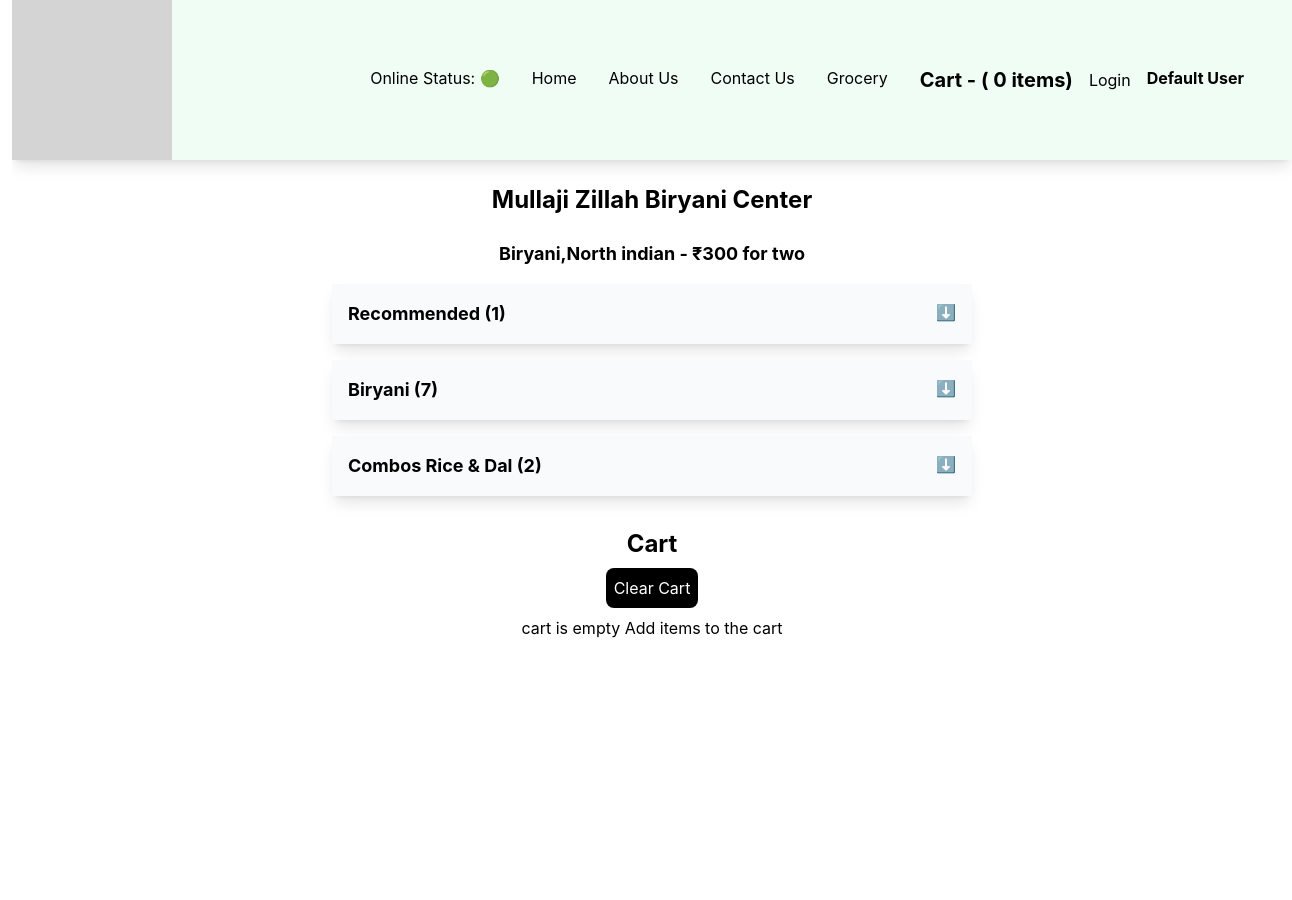
Scenario: should Load Restaurant Menu Component
Click the text "Biryani (7)" at [393, 390], box [348,376,438,404]
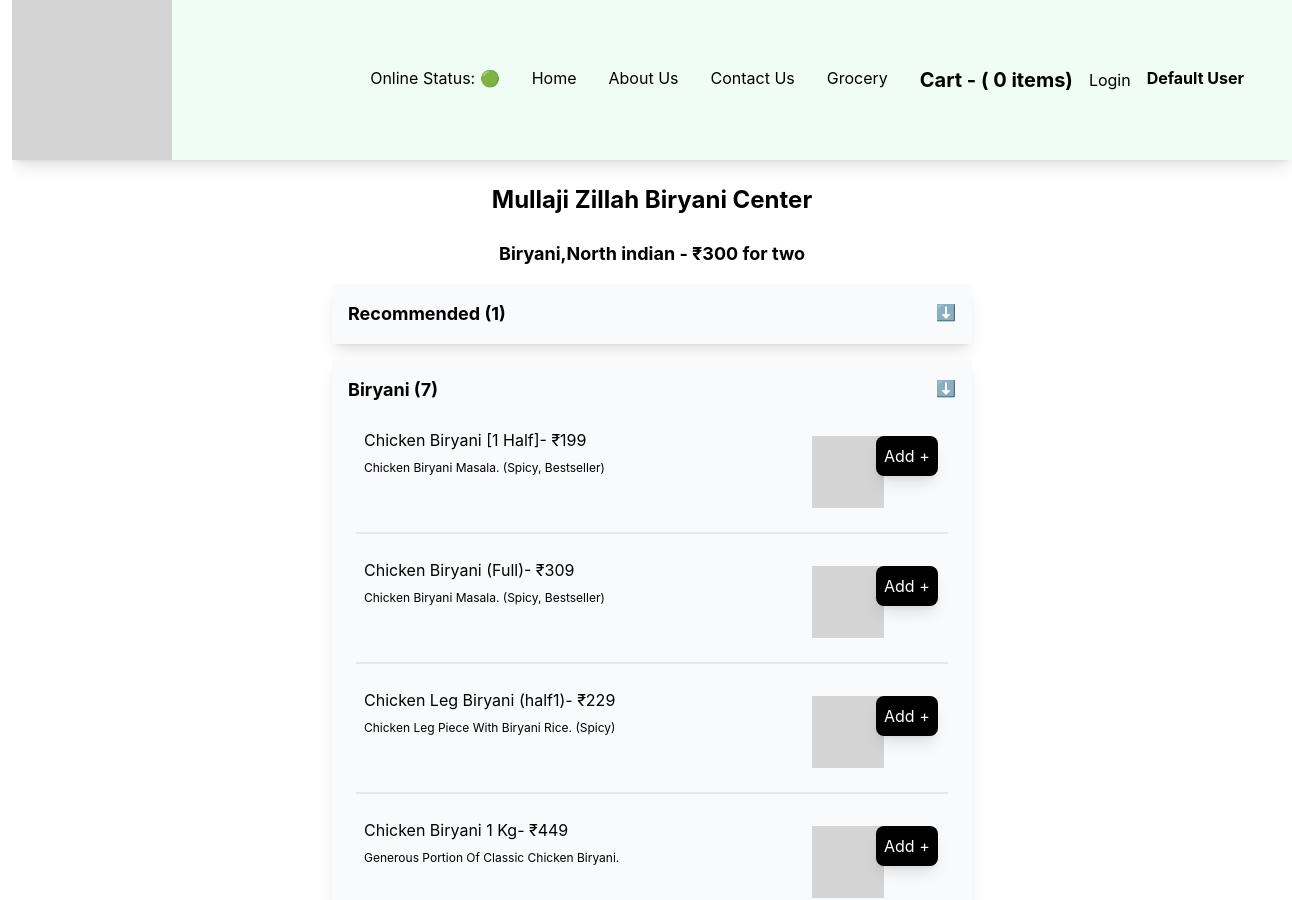
Expected: the link "Cart - ( 0 items)" is shown, [920,68,1073,92]
Expected: the number of elements with test id "foodItems" is 7
Click the button "Add +" in the row of "199" at [907, 456], box [876,436,938,476]
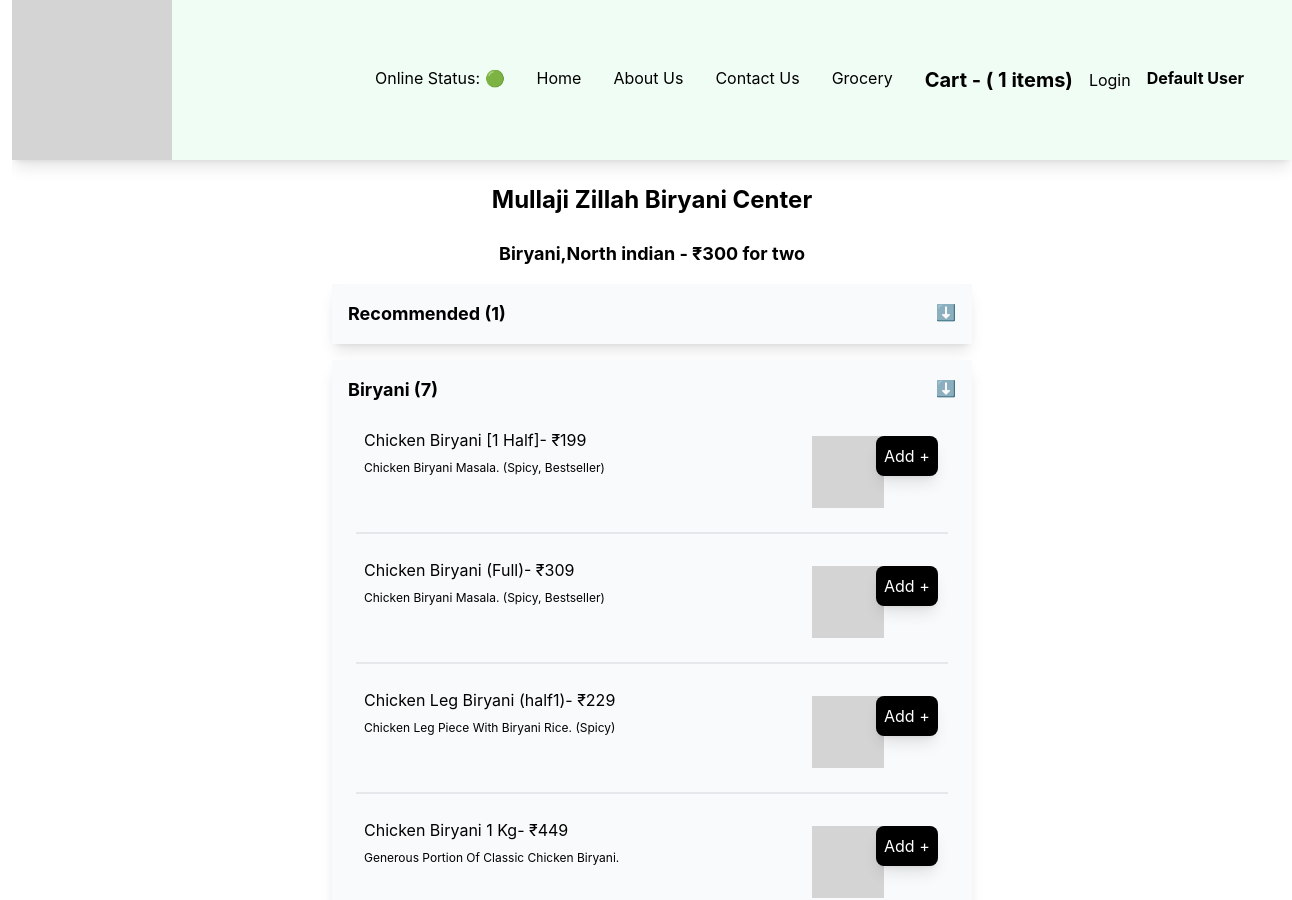
Expected: the link "Cart - ( 1 items)" is shown, [925,68,1073,92]
Click the button "Add +" in the row of "309" at [907, 586], box [876,566,938,606]
(page scrolled)
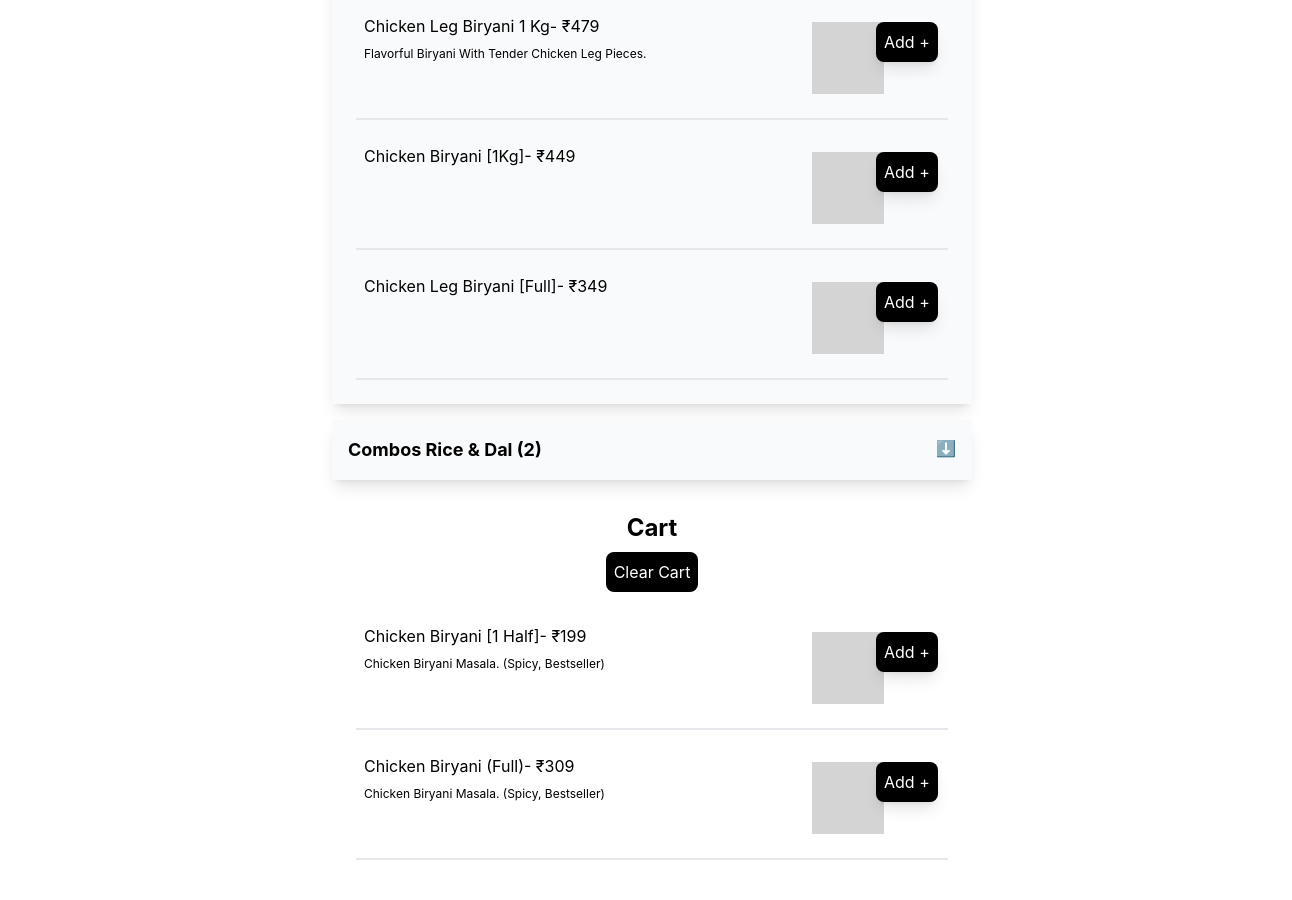
Expected: the number of elements with test id "foodItems" is 9
Click the button "Clear Cart" at [652, 572], box [606,552,698,592]
(page scrolled)
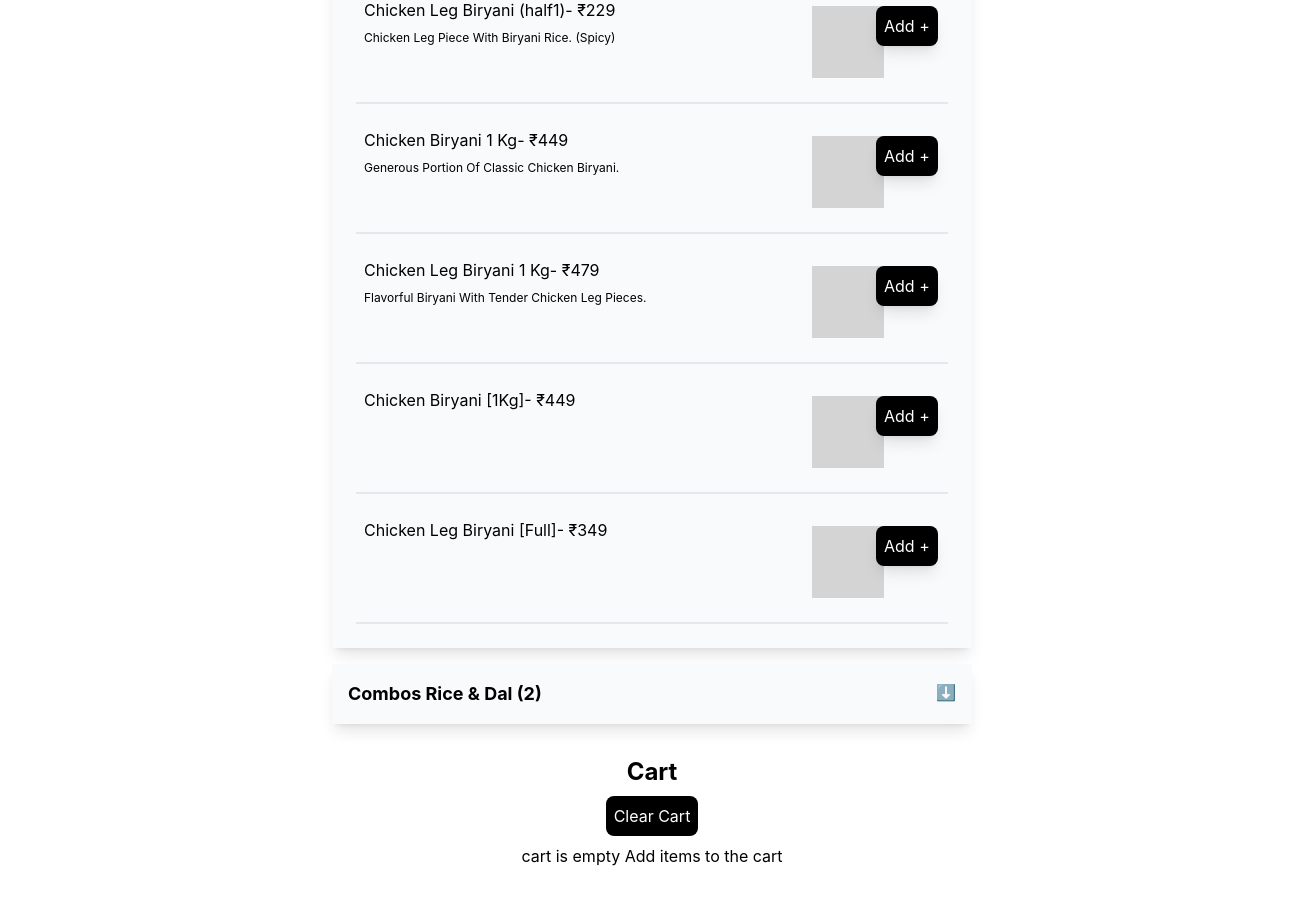
Expected: the number of elements with test id "foodItems" is 7
Expected: the heading "cart is empty Add items to the cart" is shown, [521,846,783,866]
